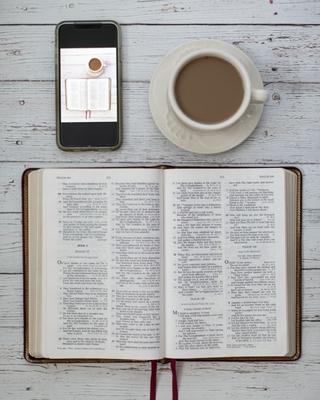cell-phone: (57, 20, 125, 151)
